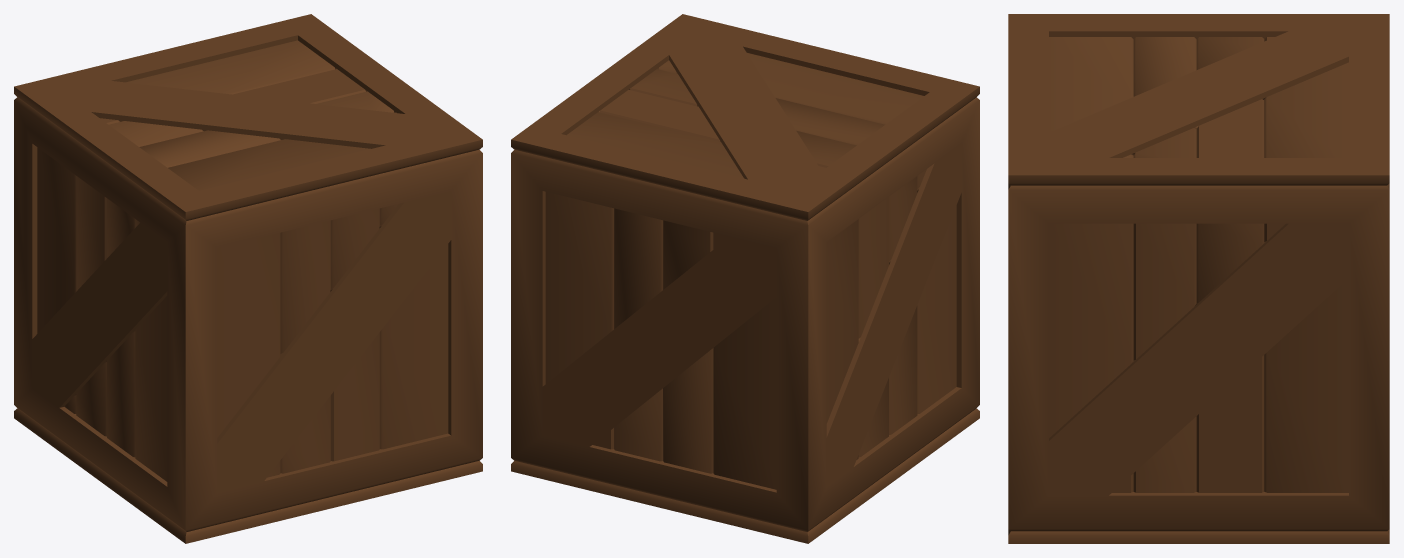
Rendered from caisse_hp.FBX.
3 renders of one model, left to right at view 1: azimuth 30°, elevation 25°; view 2: azimuth 150°, elevation 25°; view 3: azimuth 270°, elevation 25°, orthographic. The views are drawn at different scales.
Parts seen in each view (by area): view 1: HP_Boite-01a001; view 2: HP_Boite-01a001; view 3: HP_Boite-01a001.
Part boxes in pixels (x1,y1,x2,y2): HP_Boite-01a001: (14,14,482,543); HP_Boite-01a001: (511,14,979,543); HP_Boite-01a001: (1008,14,1389,543).
Bounding box in the file's own units: 150 × 160 × 150.
